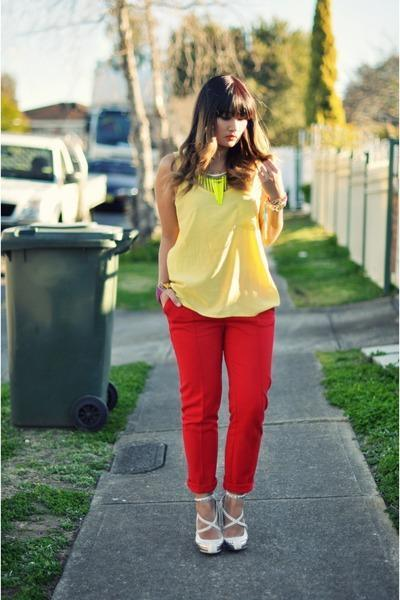pants: (163, 300, 273, 494)
shirt: (156, 180, 285, 317)
shoe: (195, 516, 247, 557)
